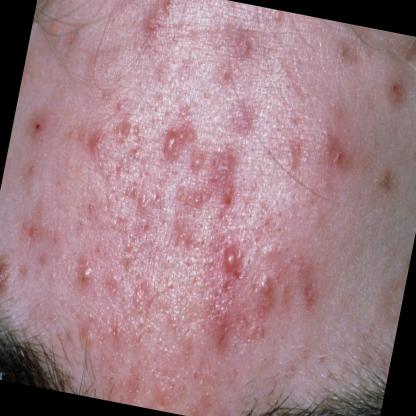Acne: (209, 224, 250, 288), (0, 237, 20, 300), (324, 132, 348, 178), (74, 247, 99, 290), (156, 121, 182, 162)
